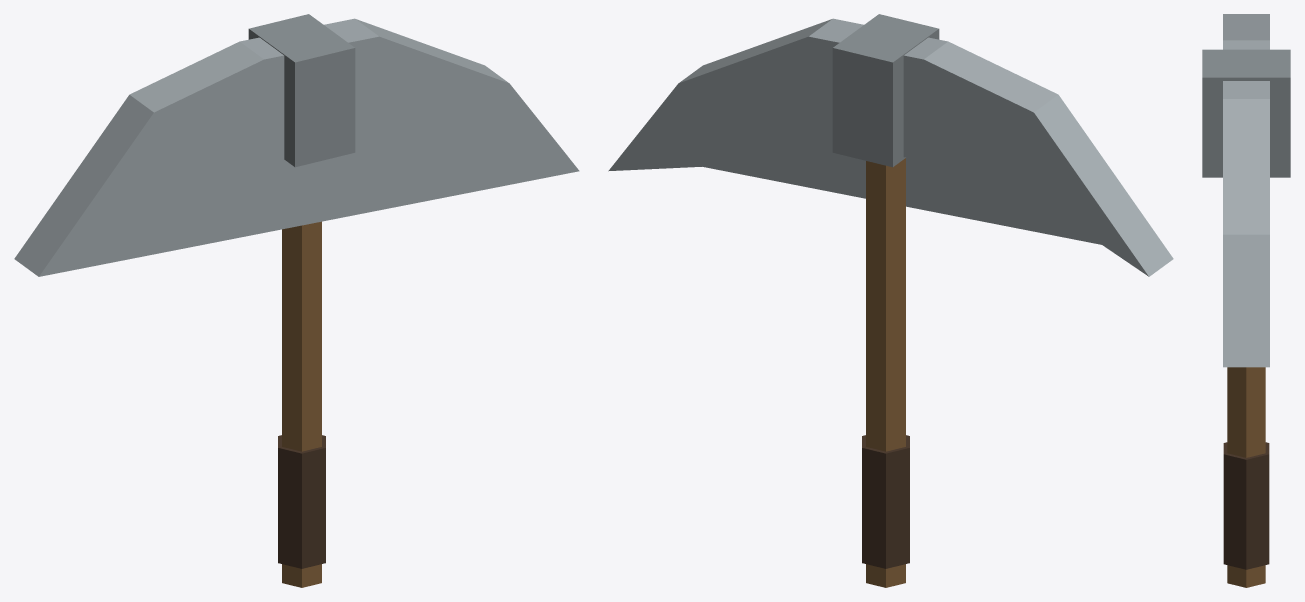
The model's file is steelPickaxe.glb.
The picture shows the model from 3 angles, left to right: view 1: azimuth 30°, elevation 25°; view 2: azimuth 150°, elevation 25°; view 3: azimuth 270°, elevation 25°; orthographic projection. The views are drawn at different scales.
Visible parts, largest first — view 1: steelPickaxe; view 2: steelPickaxe; view 3: steelPickaxe.
Part boxes in pixels (x1,y1,x2,y2): steelPickaxe: [14, 14, 579, 587]; steelPickaxe: [608, 14, 1173, 587]; steelPickaxe: [1202, 14, 1290, 587].
Size of the model in its own units: 1 by 0.9537 by 0.1481.
